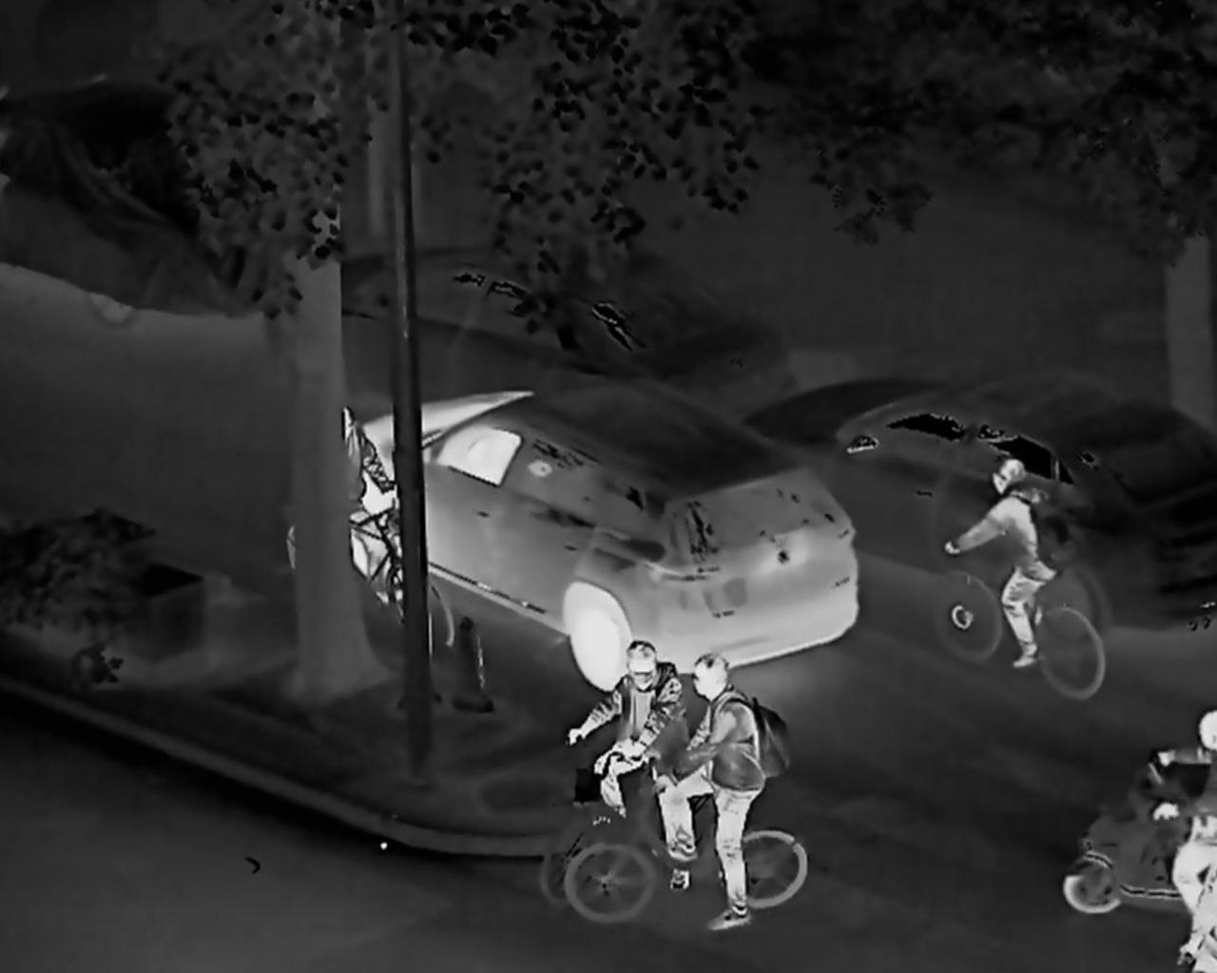person: (922, 459, 1074, 709), (572, 639, 700, 885), (664, 656, 768, 933), (290, 383, 403, 620), (1155, 704, 1217, 911)
